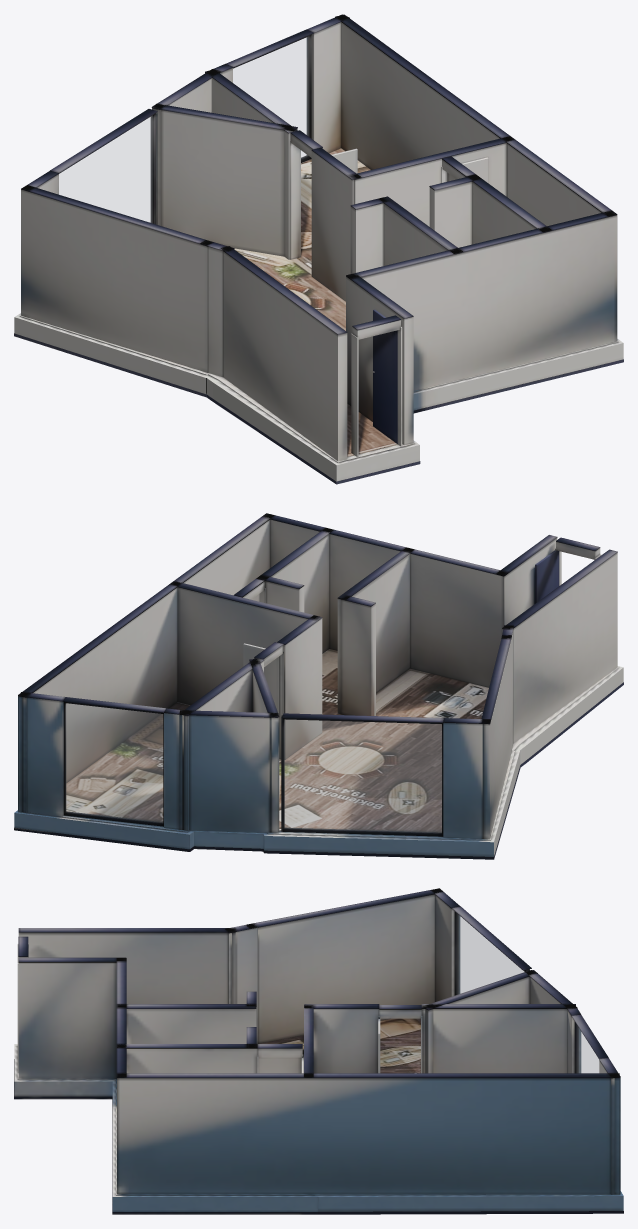
3 views of the same model, one above another, from view 1: azimuth 30°, elevation 25°; view 2: azimuth 150°, elevation 25°; view 3: azimuth 270°, elevation 25° (orthographic). The views are drawn at different scales.
Parts seen in each view (by area): view 1: plan, glass0_m, glass1_m; view 2: plan, glass0_m, glass1_m; view 3: plan, glass0_m, glass1_m.
Part boxes in pixels (x1,y1,x2,y2): plan: (14,14,623,484); glass0_m: (59,116,152,222); glass1_m: (233,37,308,158); plan: (14,513,623,859); glass0_m: (284,719,441,832); glass1_m: (66,703,162,822); plan: (14,888,623,1214); glass0_m: (457,914,523,994); glass1_m: (577,1026,598,1072).
Bounding box in the file's own units: 8.04 × 2.62 × 10.7.
2 materials, 1 textured.
